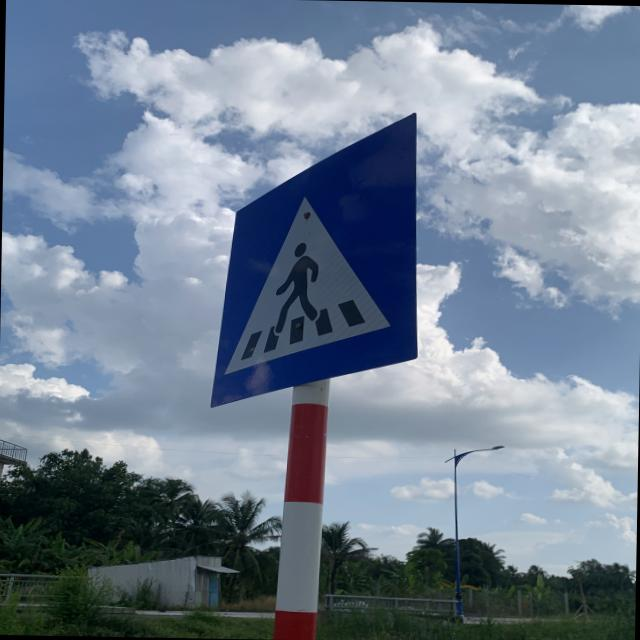Giao_Nhau_Duong_Uu_Tien: (211, 109, 421, 418)
